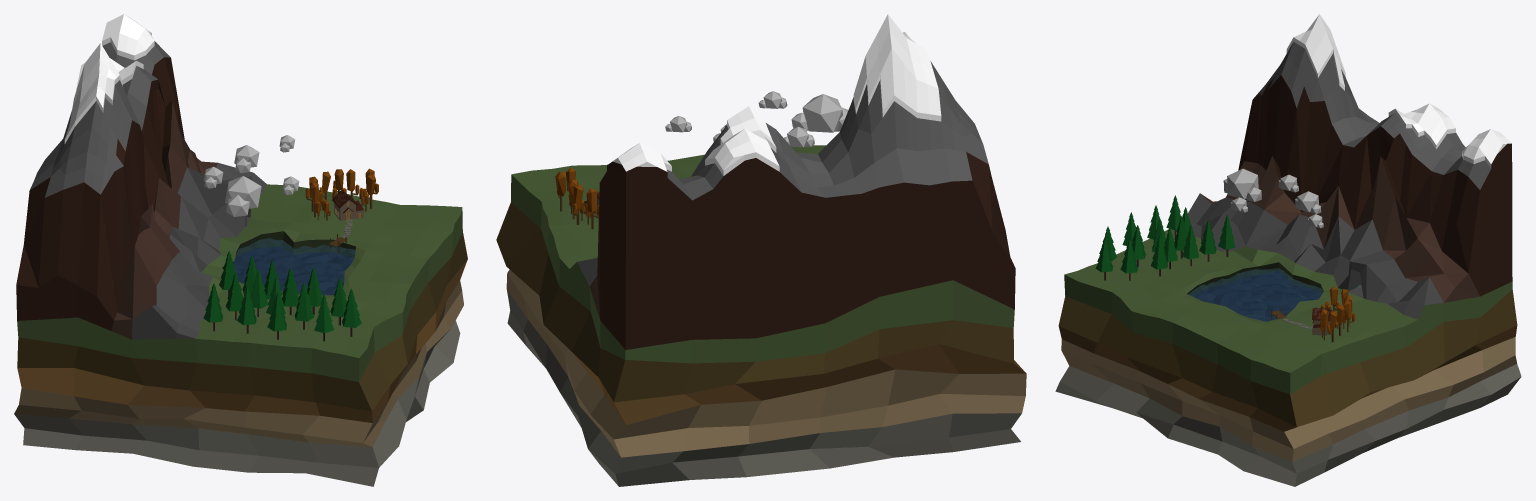
Rendered from lake.glb.
3 renders of one model, left to right at view 1: azimuth 30°, elevation 25°; view 2: azimuth 150°, elevation 25°; view 3: azimuth 270°, elevation 25°, orthographic. The views are drawn at different scales.
Parts seen in each view (by area): view 1: Object_2, Object_6, Object_23, Object_9, Object_17, Object_8, Object_19, Object_16, Object_7, Object_29, Object_15, Object_20 (+4 smaller); view 2: Object_6, Object_17, Object_2, Object_9, Object_23, Object_16, Object_15, Object_19, Object_25, Object_28; view 3: Object_2, Object_6, Object_9, Object_17, Object_23, Object_8, Object_7, Object_16, Object_29, Object_15, Object_20, Object_19 (+4 smaller).
Boxes of the visible parts, box(x1,y1,x2,y2) form: Object_2: box(17, 184, 462, 381); Object_6: box(16, 57, 184, 330); Object_23: box(14, 220, 460, 486); Object_9: box(17, 231, 467, 411); Object_17: box(14, 280, 463, 447); Object_8: box(132, 163, 266, 339); Object_19: box(17, 259, 467, 422); Object_16: box(30, 41, 170, 197); Object_7: box(111, 100, 217, 339); Object_29: box(203, 251, 361, 333); Object_15: box(64, 14, 154, 143); Object_20: box(233, 238, 355, 295); Object_6: box(597, 126, 1015, 349); Object_17: box(506, 269, 1026, 457); Object_2: box(511, 145, 1014, 363); Object_9: box(496, 202, 1013, 402); Object_23: box(506, 289, 1021, 486); Object_16: box(667, 61, 988, 200); Object_15: box(612, 14, 941, 175); Object_19: box(572, 344, 1026, 424); Object_25: box(665, 91, 848, 147); Object_28: box(555, 167, 599, 216); Object_2: box(1064, 229, 1512, 394); Object_6: box(1238, 75, 1512, 296); Object_9: box(1058, 289, 1517, 426); Object_17: box(1061, 337, 1516, 462); Object_23: box(1055, 318, 1521, 486); Object_8: box(1172, 193, 1443, 319); Object_7: box(1200, 156, 1480, 302); Object_16: box(1253, 41, 1490, 189); Object_29: box(1095, 195, 1235, 273); Object_15: box(1286, 14, 1511, 168); Object_20: box(1188, 268, 1322, 321); Object_19: box(1058, 325, 1517, 431).
Size of the model in its own units: 4.65 by 3.57 by 4.64.
